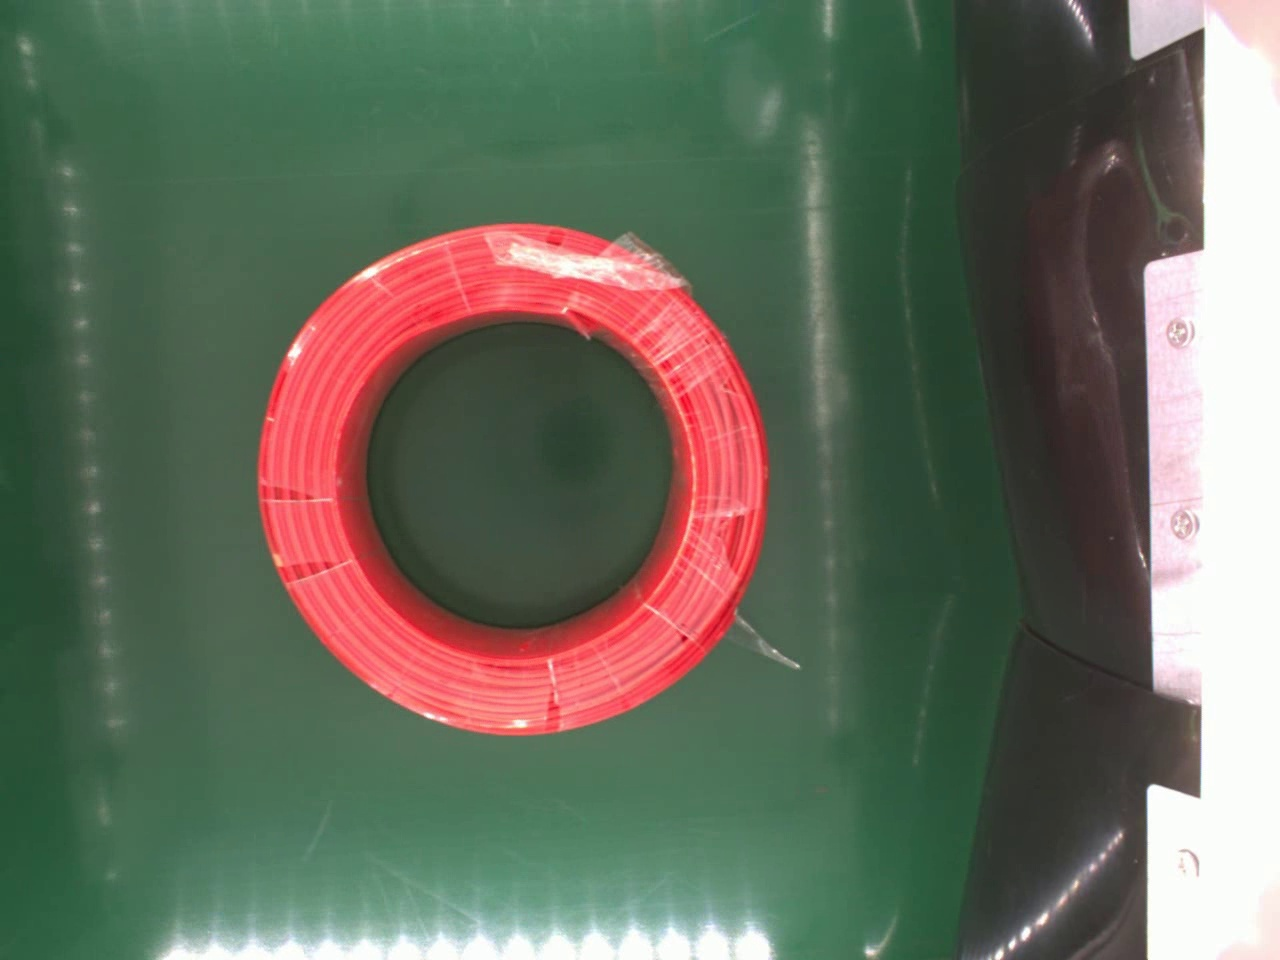red: (253, 220, 774, 738)
